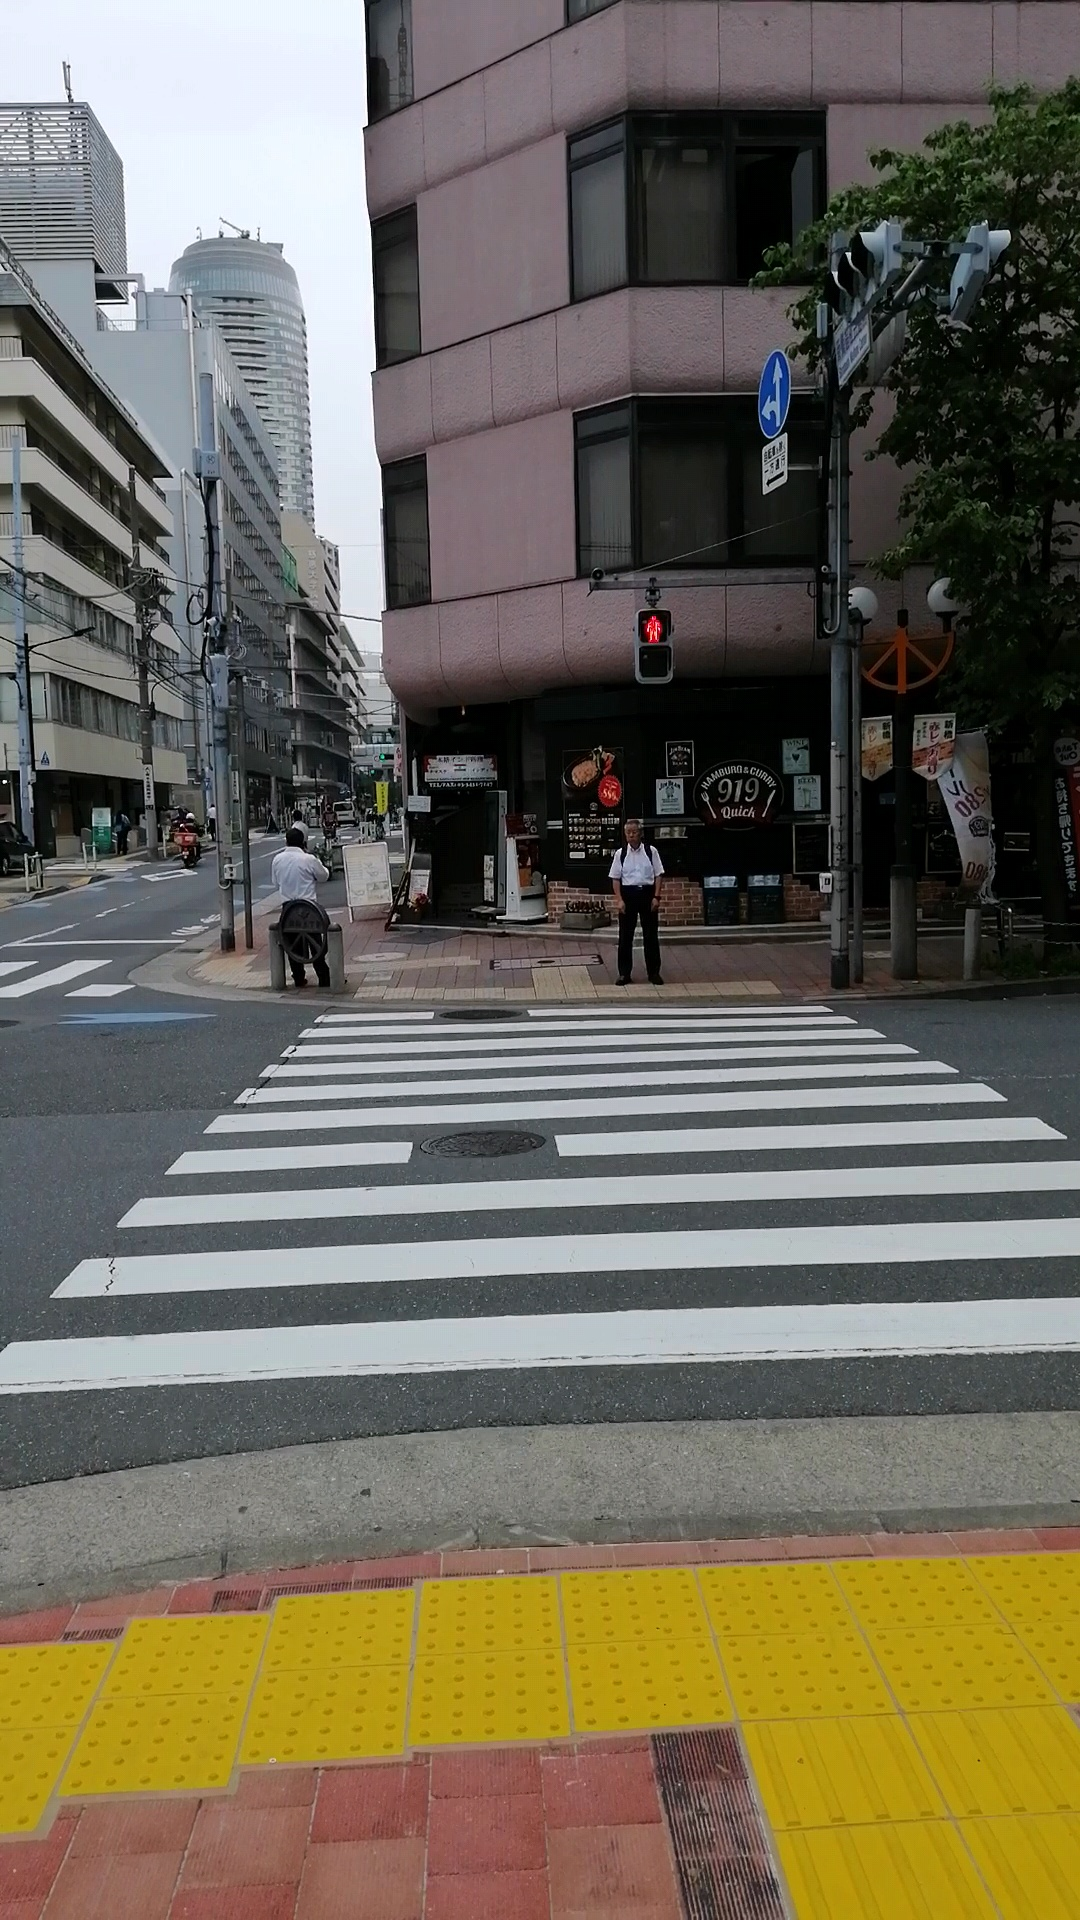red: (634, 605, 674, 684)
